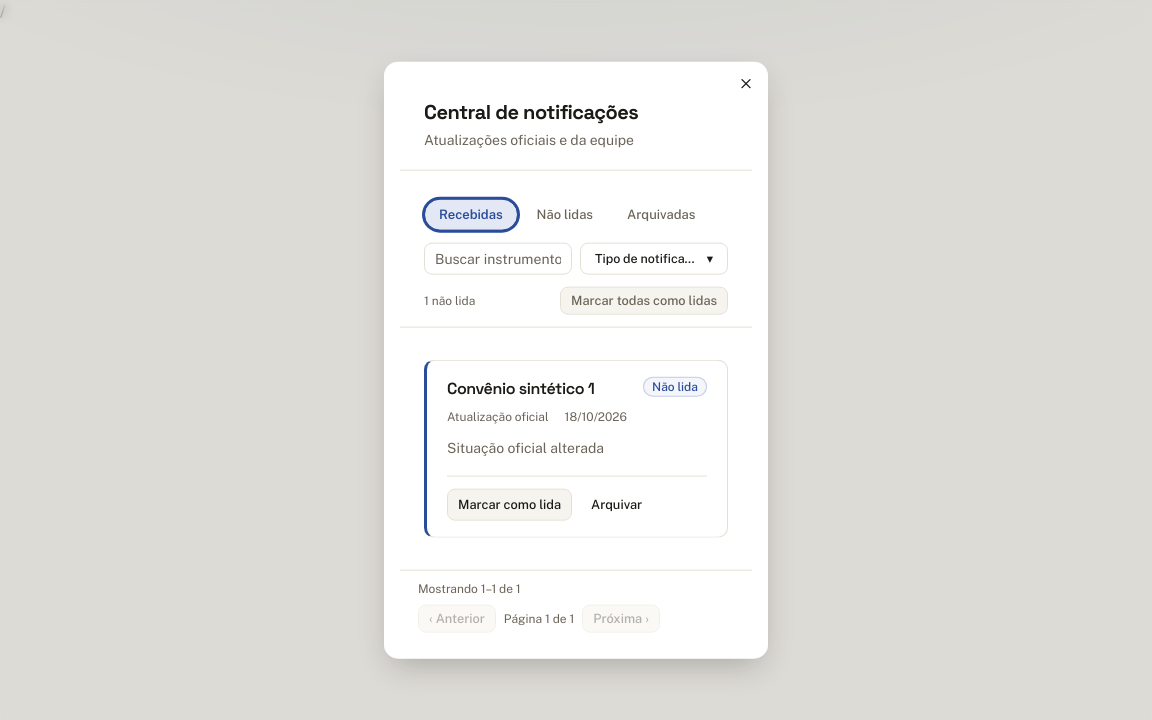
Test: Central de notificações integrada à API › marca todas, atualiza badge e desabilita a operação sem não lidas
Expected: the text "1 não lida" is shown, [424, 293, 475, 309]
Click the button "Marcar todas como lidas": x=644, y=301 [560, 287, 728, 315]
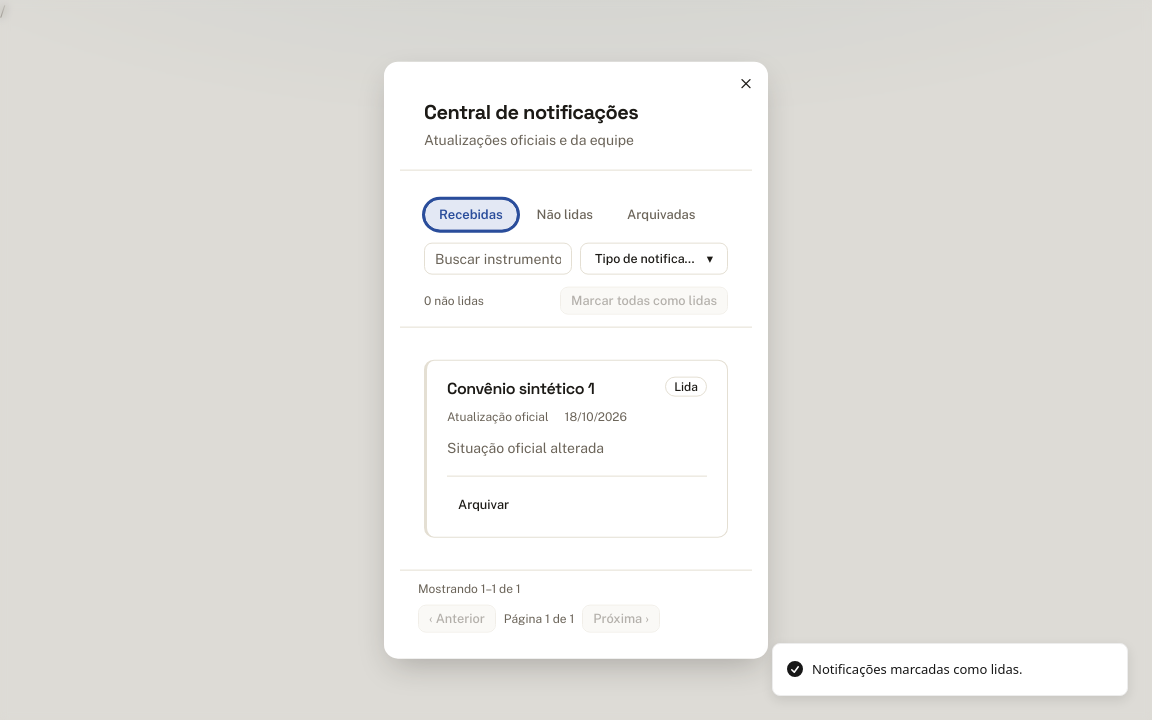
Expected: the text "0 não lidas" is shown, [424, 293, 484, 309]
Expected: the button "Marcar todas como lidas" is disabled, [560, 287, 728, 315]
Click the button "Não lidas": x=565, y=215 [522, 199, 608, 231]
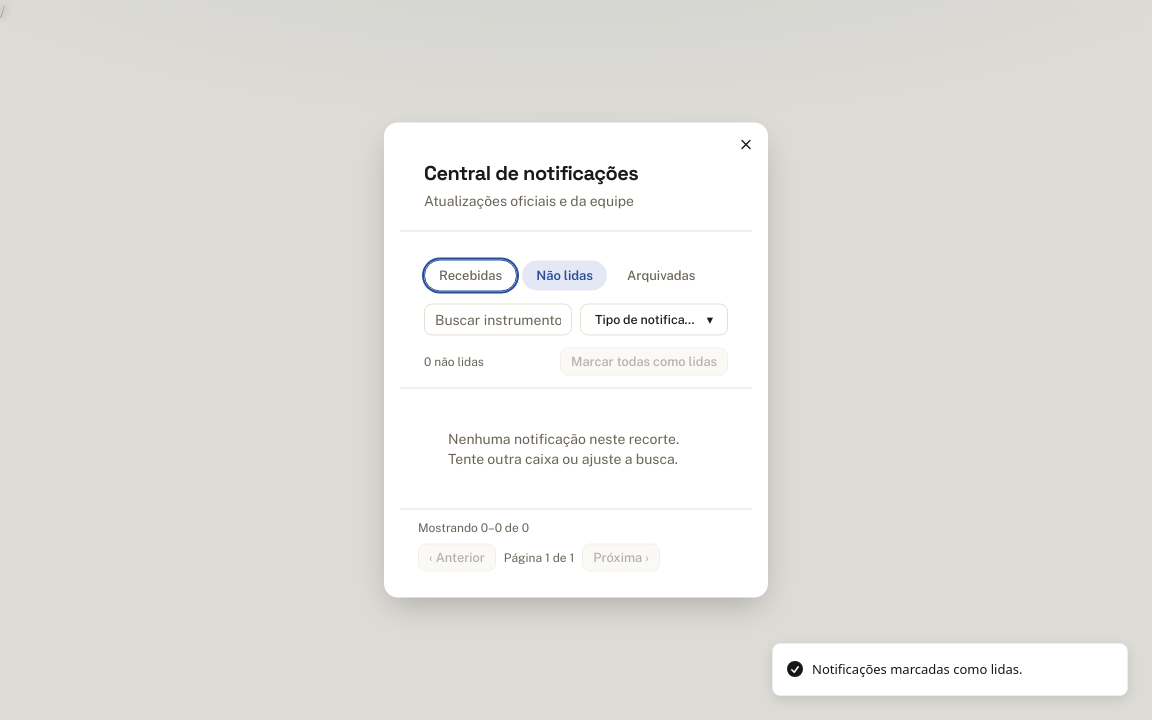
Expected: the text "Nenhuma notificação neste recorte" is shown, [448, 430, 679, 466]
